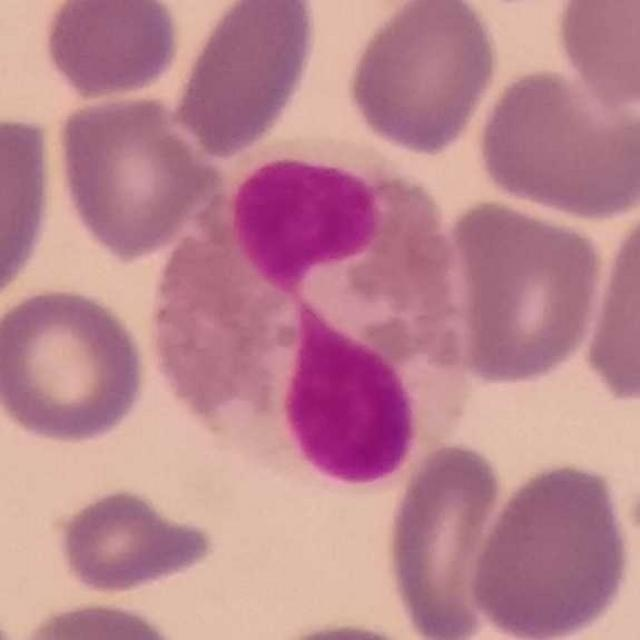Eosinophil: (142, 141, 468, 495)
RBC: (434, 192, 609, 390), (465, 457, 636, 640), (51, 88, 223, 263), (472, 58, 640, 224), (381, 437, 508, 640), (343, 0, 501, 158), (0, 281, 151, 446), (168, 0, 322, 159), (52, 483, 220, 598), (37, 0, 183, 102), (580, 192, 640, 408), (0, 108, 59, 313), (551, 0, 640, 111), (11, 596, 190, 640), (251, 615, 439, 640)
